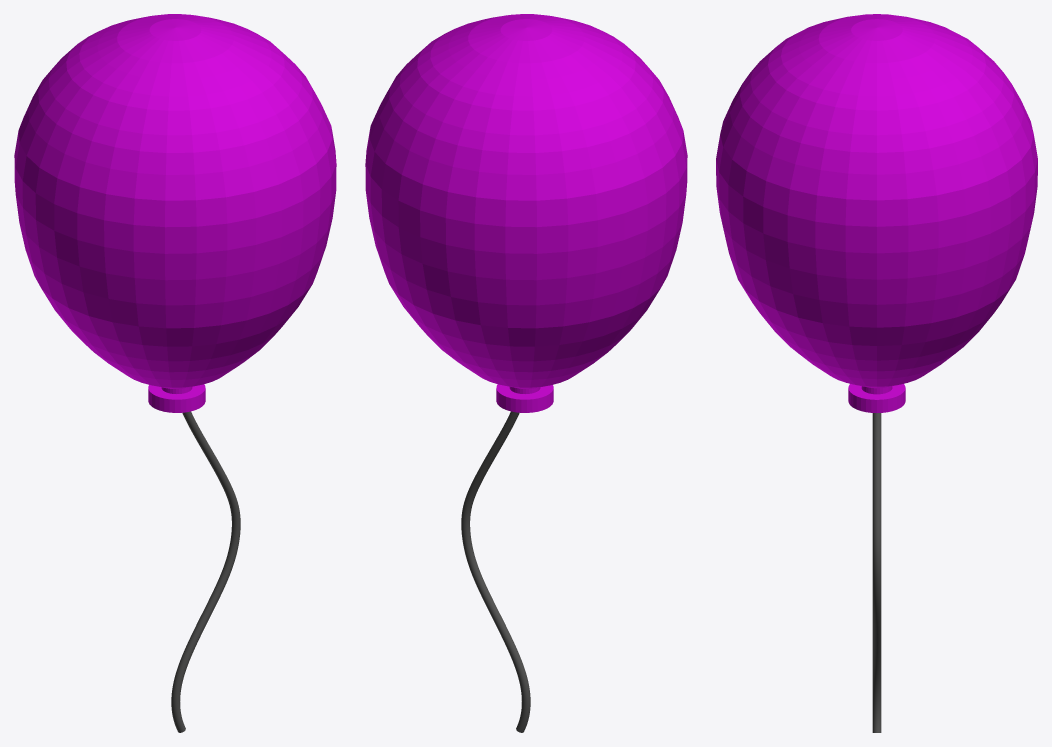
The model's file is ss_balloon1.gltf.
3 renders of one model, left to right at view 1: azimuth 30°, elevation 25°; view 2: azimuth 150°, elevation 25°; view 3: azimuth 270°, elevation 25°, orthographic.
Parts seen in each view (by area): view 1: Cylinder, NurbsPath; view 2: Cylinder, NurbsPath; view 3: Cylinder, NurbsPath.
Boxes of the visible parts, x1,y1,x2,y2 form: Cylinder: (14, 14, 336, 412); NurbsPath: (171, 411, 240, 732); Cylinder: (365, 14, 687, 412); NurbsPath: (461, 411, 530, 732); Cylinder: (716, 14, 1037, 412); NurbsPath: (872, 413, 881, 732).
Bounding box in the file's own units: 0.5947 × 1.43 × 0.5947.
